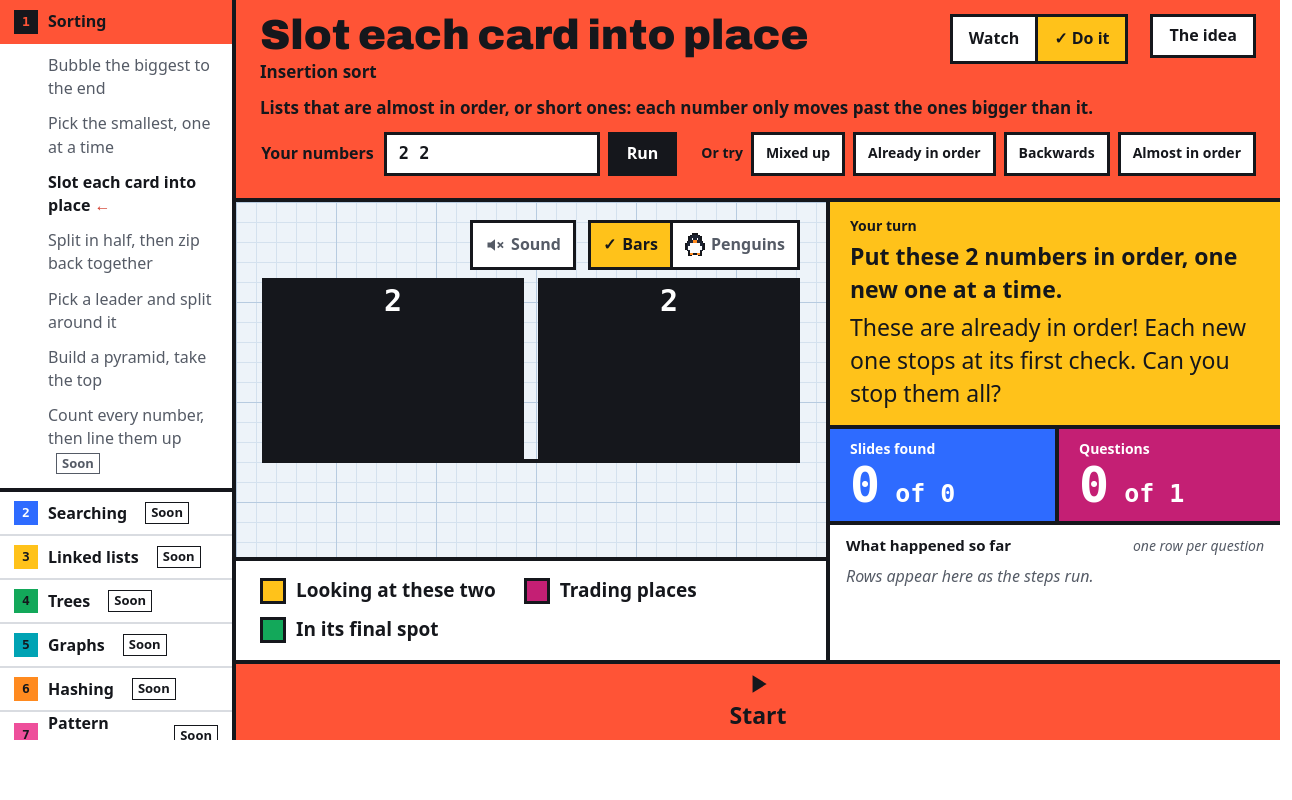
Test: insertion sort: Do it › equal values: Slide it right is wrong, Stop here is right
Click the button "Start".
click(758, 702)  # box [236, 664, 1280, 740]
Wait 4000 ms
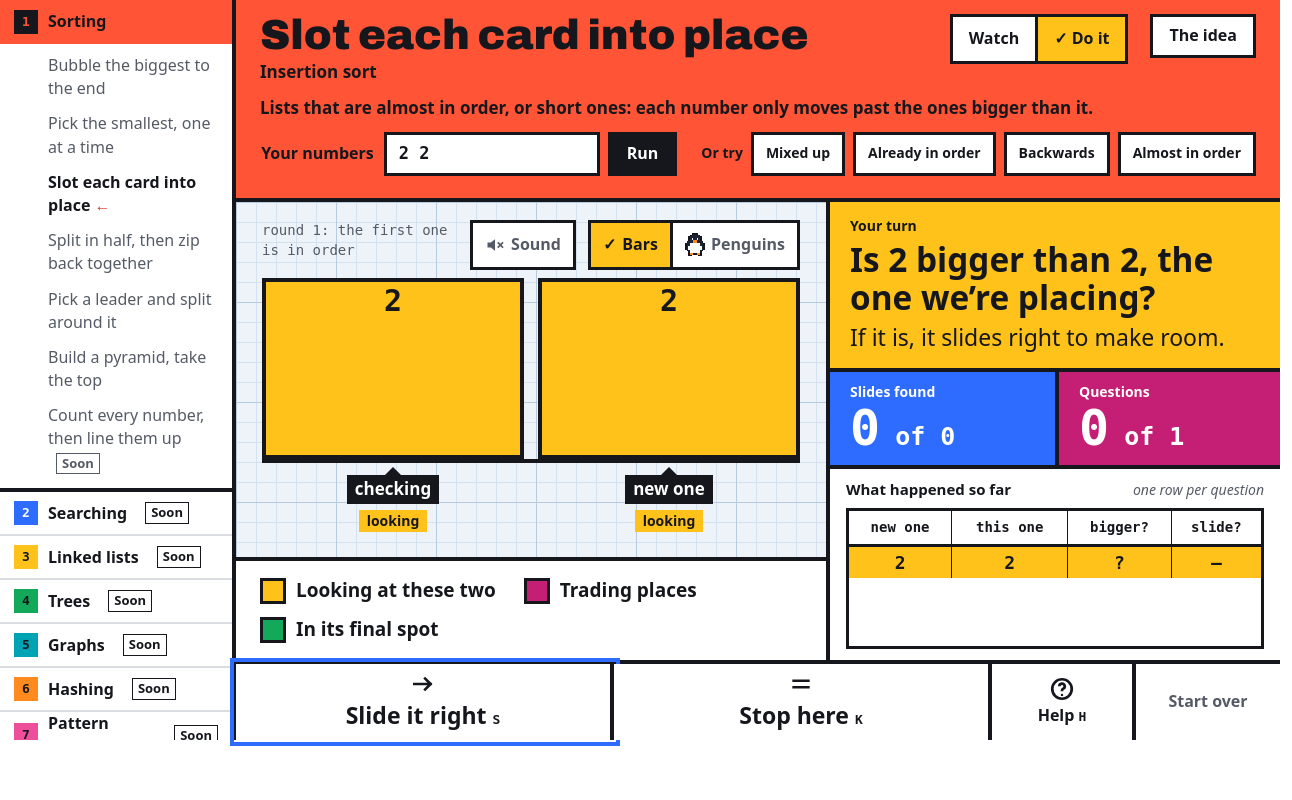
Check: the text with class "do-it-question" reads "Is 2 bigger than 2, the one we’re placing?", box [850, 236, 1213, 320]
Type keys "s"
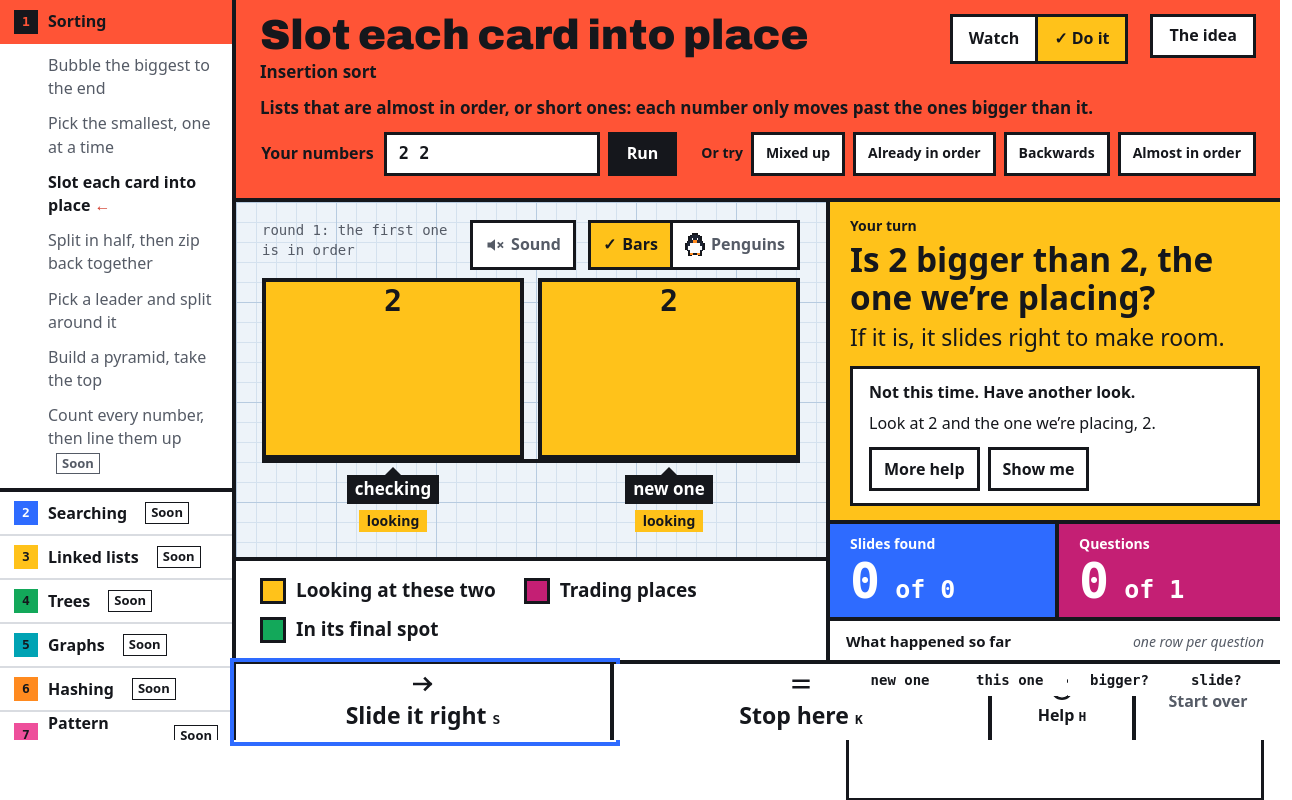
Check: the element with class "do-it-panel" shows "Not this time.", box [869, 381, 1135, 403]
Type keys "h"
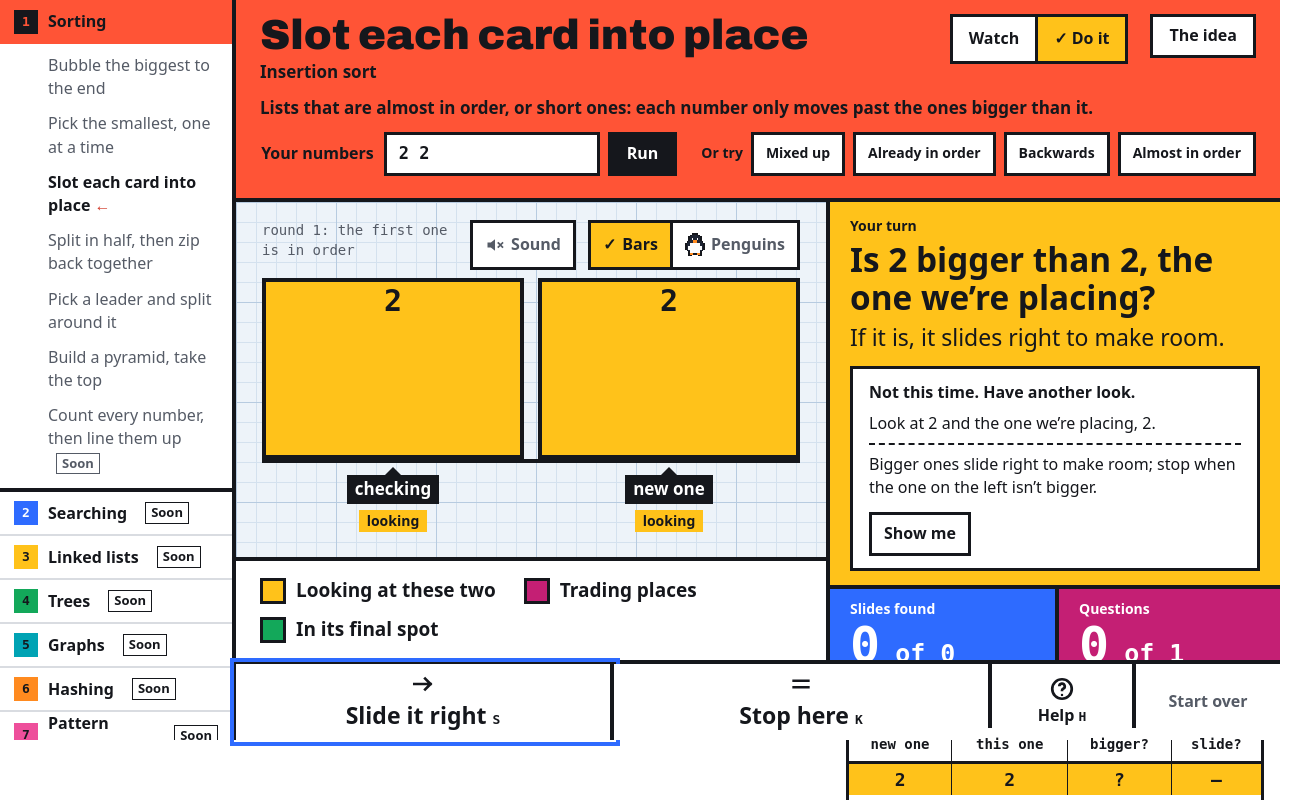
Type keys "h"
Click the button "Show me".
click(920, 534)  # box [869, 512, 971, 556]
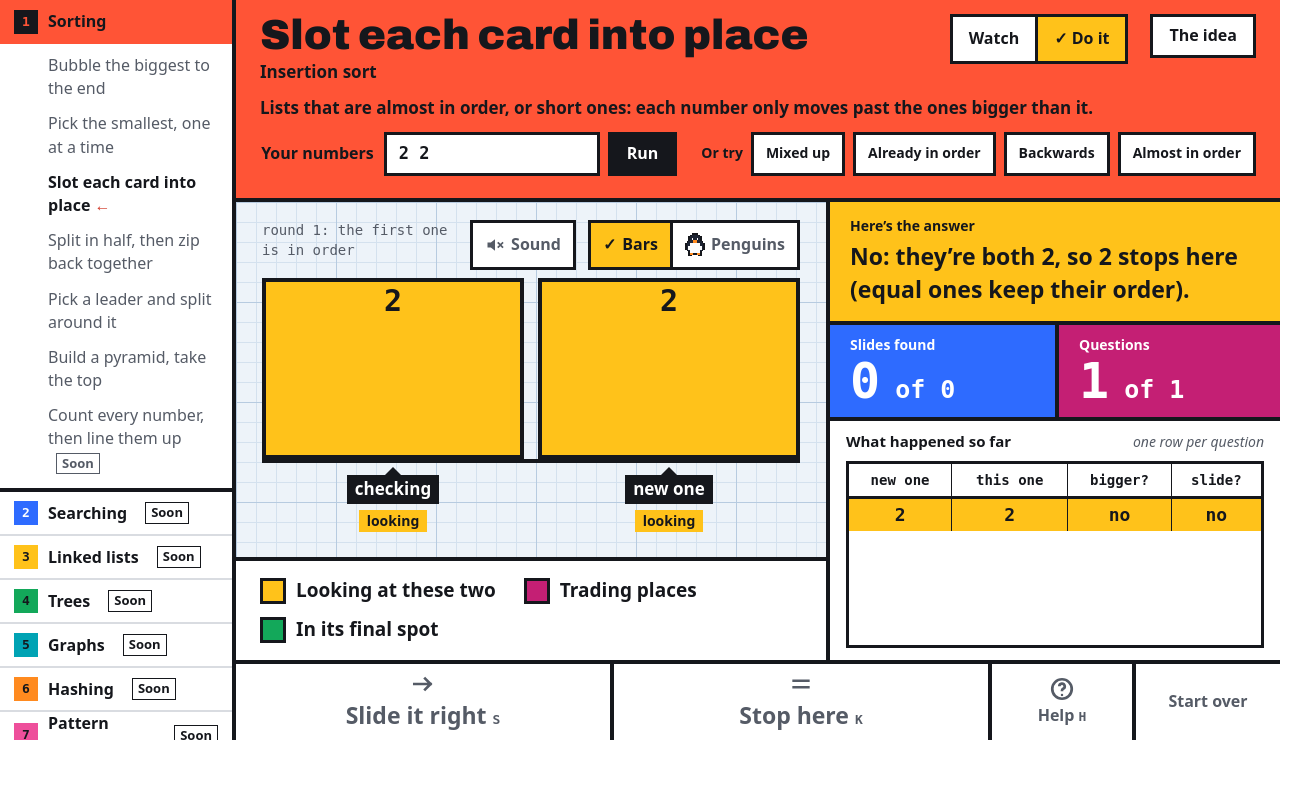
Check: the element with class "do-it-panel" shows "No: they’re both 2, so 2 stops here (equal ones keep their order).", box [850, 240, 1238, 305]
